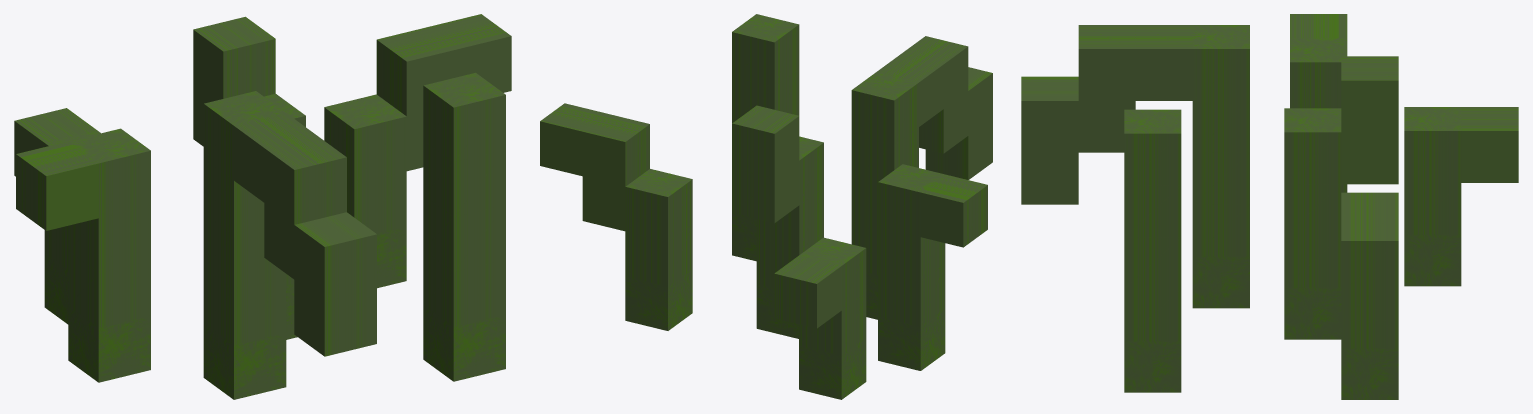
The model's file is Grass Attempt Patch 1.fbx.
3 renders of one model, left to right at view 1: azimuth 30°, elevation 25°; view 2: azimuth 150°, elevation 25°; view 3: azimuth 270°, elevation 25°, orthographic. The views are drawn at different scales.
Visible parts, largest first — view 1: Grass; view 2: Grass; view 3: Grass.
Part boxes in pixels (x1=…): Grass: x1=14, y1=14, x2=511, y2=399; Grass: x1=540, y1=14, x2=992, y2=399; Grass: x1=1021, y1=14, x2=1518, y2=399.
Bounding box in the file's own units: 87 × 94 × 50.
